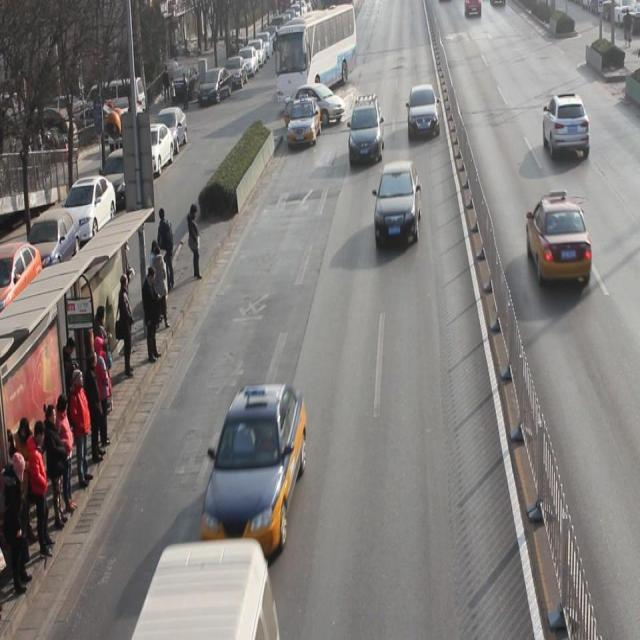car: (202, 385, 306, 561), (527, 196, 593, 286), (373, 160, 423, 250), (542, 94, 591, 158), (286, 84, 347, 131), (348, 100, 385, 169), (407, 86, 441, 143), (286, 97, 321, 148)
van: (276, 10, 355, 110)
